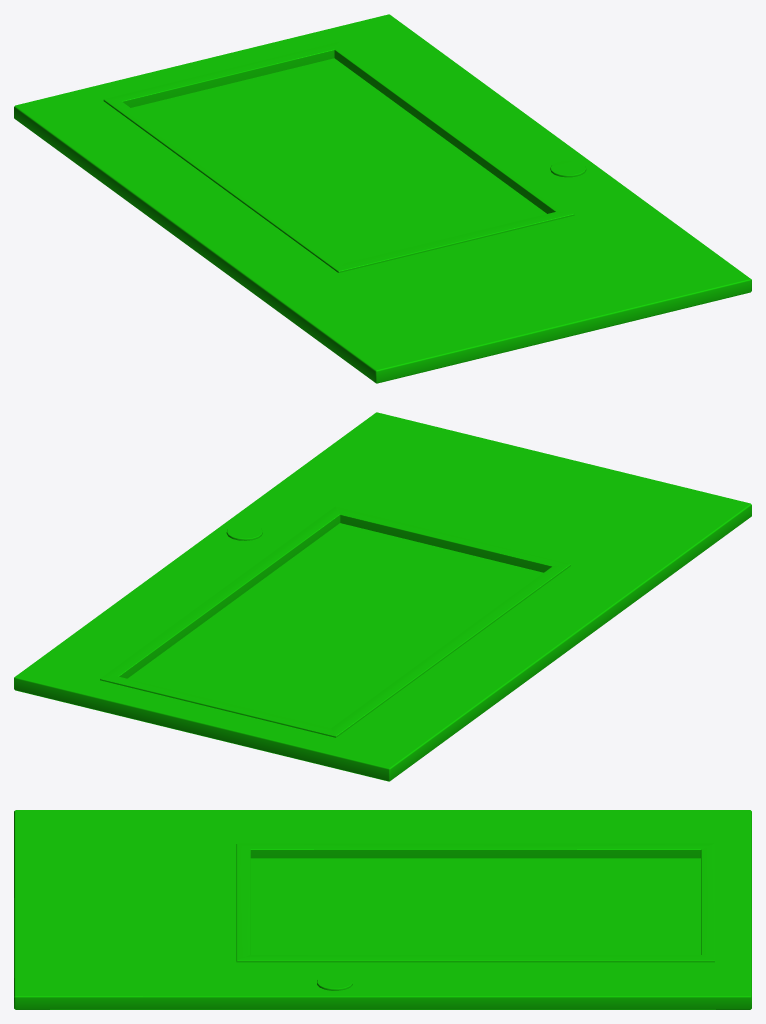
File: SM_Door_01.fbx
The picture shows the model from 3 angles, top to bottom: view 1: azimuth 30°, elevation 25°; view 2: azimuth 150°, elevation 25°; view 3: azimuth 270°, elevation 25°; orthographic projection.
Visible parts, largest first — view 1: SM_Door_01; view 2: SM_Door_01; view 3: SM_Door_01.
Boxes of the visible parts, x1,y1,x2,y2 form: SM_Door_01: (14,14,751,383); SM_Door_01: (14,412,751,781); SM_Door_01: (14,810,751,1009).
Bounding box in the file's own units: 140 × 6.46 × 234.
